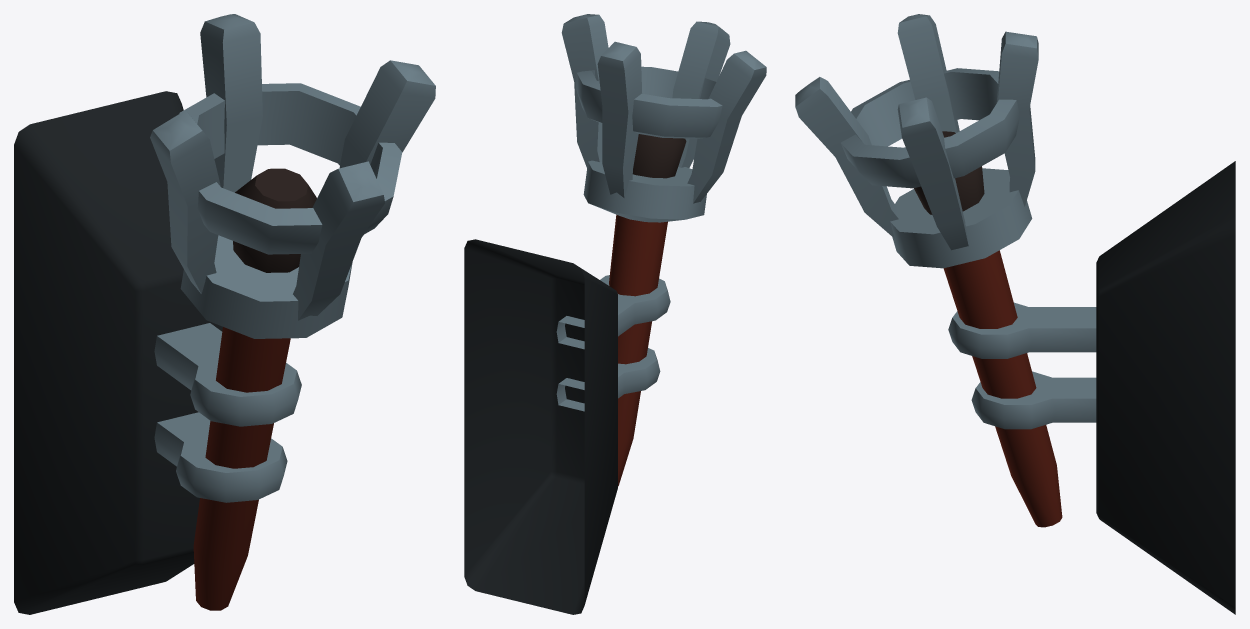
File: torchWall.obj
3 views of the same model, side by side, from view 1: azimuth 30°, elevation 25°; view 2: azimuth 150°, elevation 25°; view 3: azimuth 270°, elevation 25° (orthographic). The views are drawn at different scales.
Parts seen in each view (by area): view 1: torchWall_Cylinder.013; view 2: torchWall_Cylinder.013; view 3: torchWall_Cylinder.013.
Boxes of the visible parts, x1,y1,x2,y2 form: torchWall_Cylinder.013: (14,14,435,614); torchWall_Cylinder.013: (464,14,766,614); torchWall_Cylinder.013: (795,14,1235,614).
Size of the model in its own units: 0.6436 by 1.57 by 1.13.
